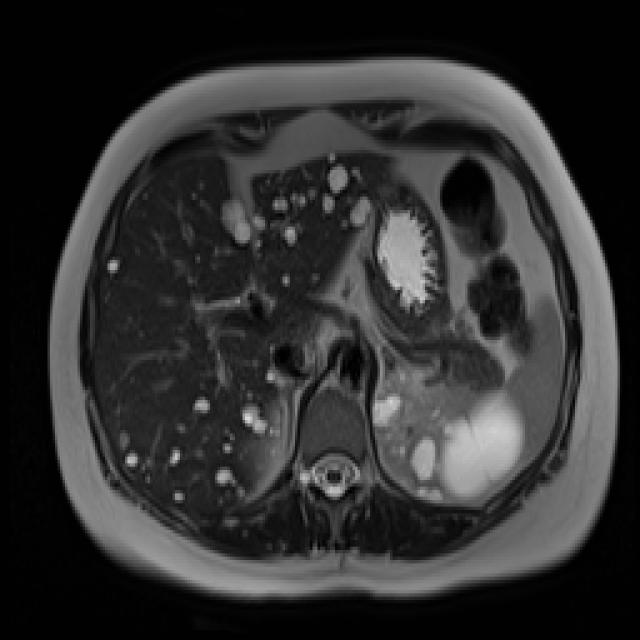sol: (374, 357, 526, 503)
